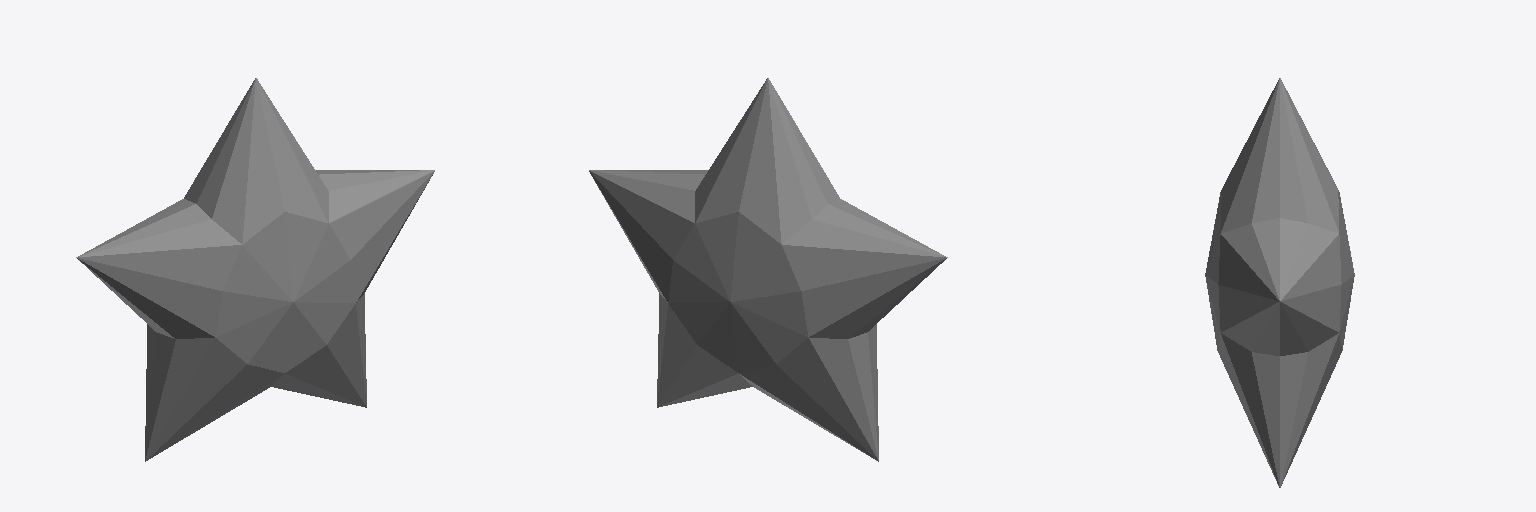
The model's file is Star.obj.
3 renders of one model, left to right at view 1: azimuth 30°, elevation 25°; view 2: azimuth 150°, elevation 25°; view 3: azimuth 270°, elevation 25°, orthographic.
Parts seen in each view (by area): view 1: SOBJ_0xd84; view 2: SOBJ_0xd84; view 3: SOBJ_0xd84.
Part boxes in pixels (left/top/right/bottom): SOBJ_0xd84: left=76, top=78, right=434, bottom=461; SOBJ_0xd84: left=589, top=78, right=947, bottom=461; SOBJ_0xd84: left=1205, top=78, right=1354, bottom=487.
Size of the model in its own units: 0.7282 by 0.6925 by 0.2624.